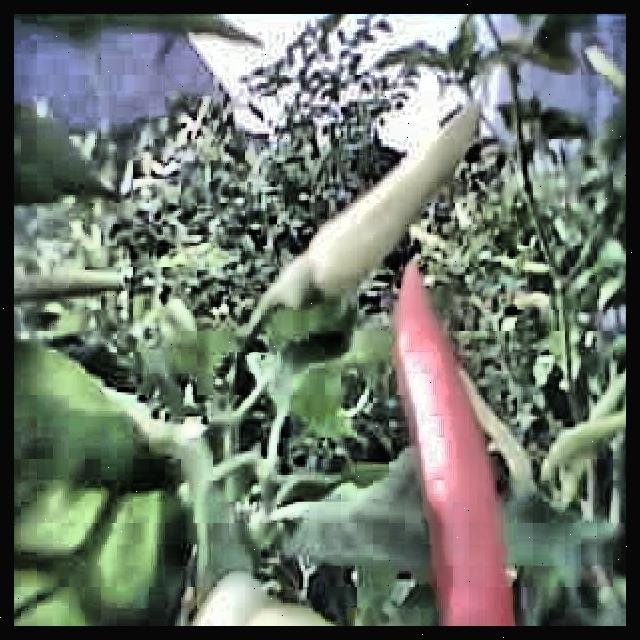Cabai: (396, 262, 524, 626), (237, 115, 479, 252), (582, 42, 626, 107)
